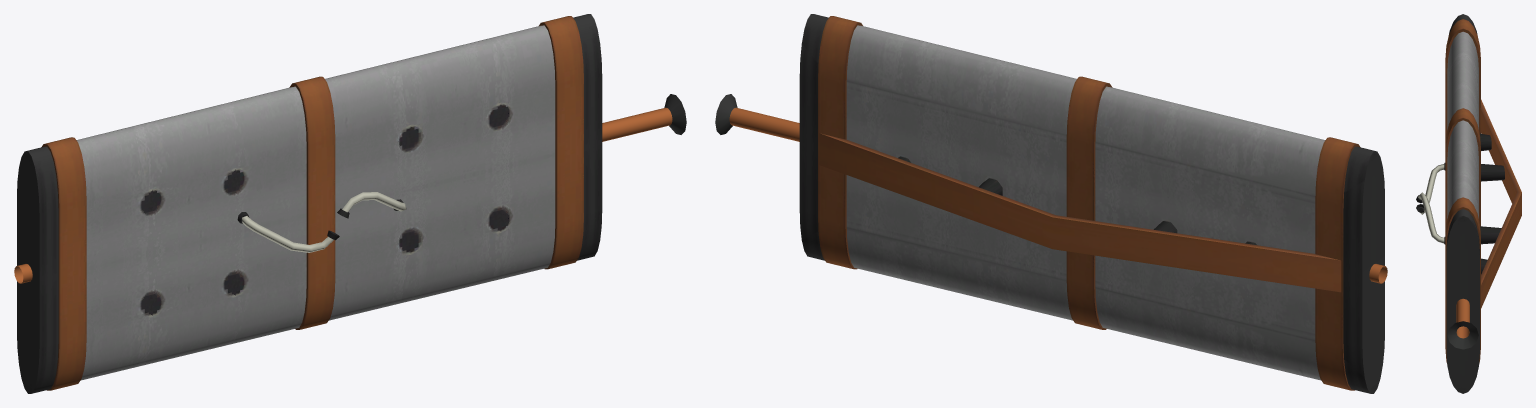
The model's file is nt_hydro_shelf_holders_LOD0.obj.
3 views of the same model, side by side, from view 1: azimuth 30°, elevation 25°; view 2: azimuth 150°, elevation 25°; view 3: azimuth 270°, elevation 25° (orthographic). The views are drawn at different scales.
Visible parts, largest first — view 1: nt_2020_pipes_ceramic_holes, mtl_nt_hydro_cabbage_holders; view 2: nt_2020_pipes_ceramic_holes, mtl_nt_hydro_cabbage_holders; view 3: nt_2020_pipes_ceramic_holes, mtl_nt_hydro_cabbage_holders.
Part boxes in pixels (x1,y1,x2,y2): nt_2020_pipes_ceramic_holes: (14, 14, 686, 393); mtl_nt_hydro_cabbage_holders: (41, 16, 583, 390); nt_2020_pipes_ceramic_holes: (715, 14, 1387, 393); mtl_nt_hydro_cabbage_holders: (818, 16, 1360, 390); nt_2020_pipes_ceramic_holes: (1446, 14, 1479, 393); mtl_nt_hydro_cabbage_holders: (1416, 19, 1521, 363).
Size of the model in its own units: 106 by 37.85 by 20.08.
